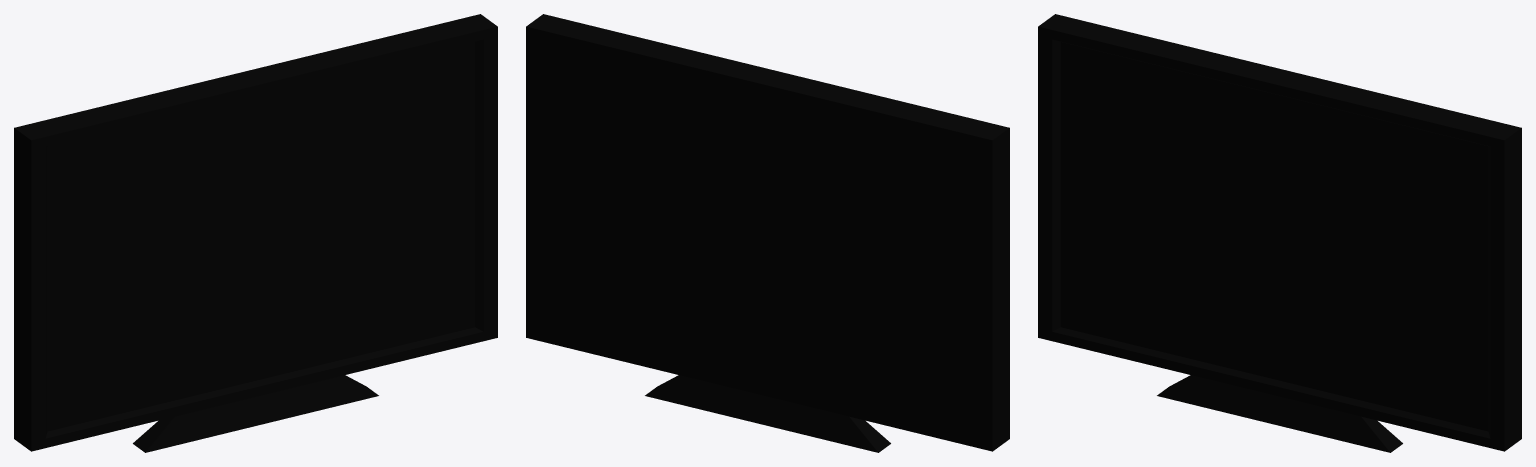
The picture shows the model from 3 angles, left to right: view 1: azimuth 30°, elevation 25°; view 2: azimuth 150°, elevation 25°; view 3: azimuth 330°, elevation 25°; orthographic projection.
Parts seen in each view (by area): view 1: Cube.001, Cube; view 2: Cube; view 3: Cube.001, Cube.
Part boxes in pixels (bbox=[...]): Cube.001: bbox=[47, 42, 475, 431]; Cube: bbox=[14, 14, 497, 452]; Cube: bbox=[526, 14, 1009, 452]; Cube.001: bbox=[1060, 42, 1488, 431]; Cube: bbox=[1038, 14, 1521, 452].
Bounding box in the file's own units: 314 × 20.02 × 220.
2 materials, 1 textured.
